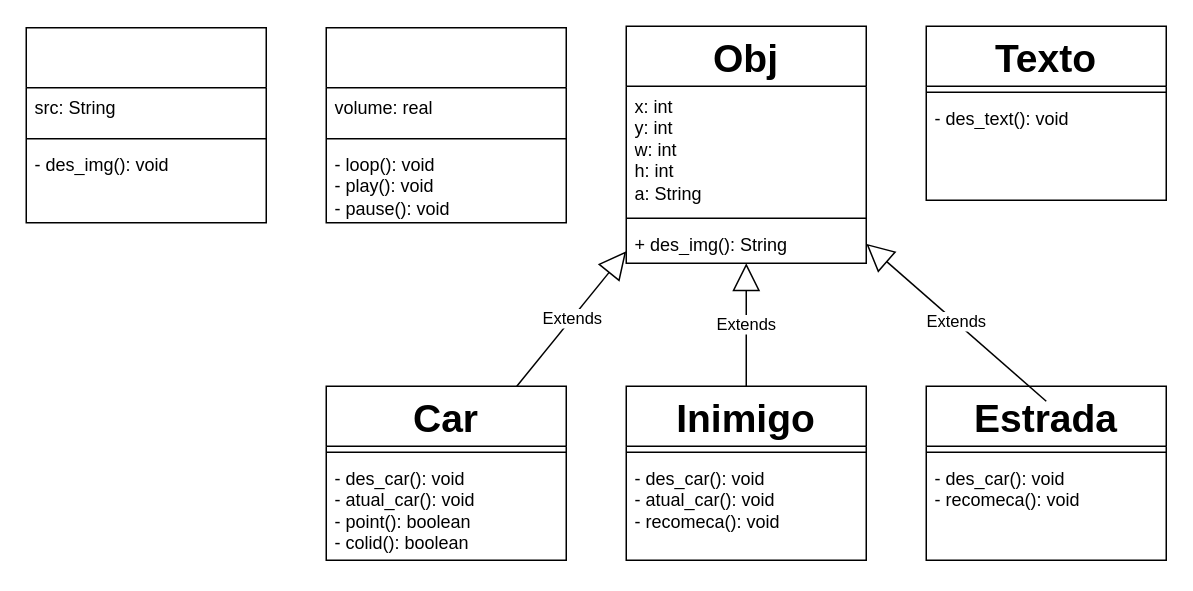
The diagram is 1193 pixels wide and 591 high, and some of its shapes have lost their labels. Each missing label, with the box of its shape:
Audio: (325, 26, 566, 223)
Image: (25, 26, 266, 223)
